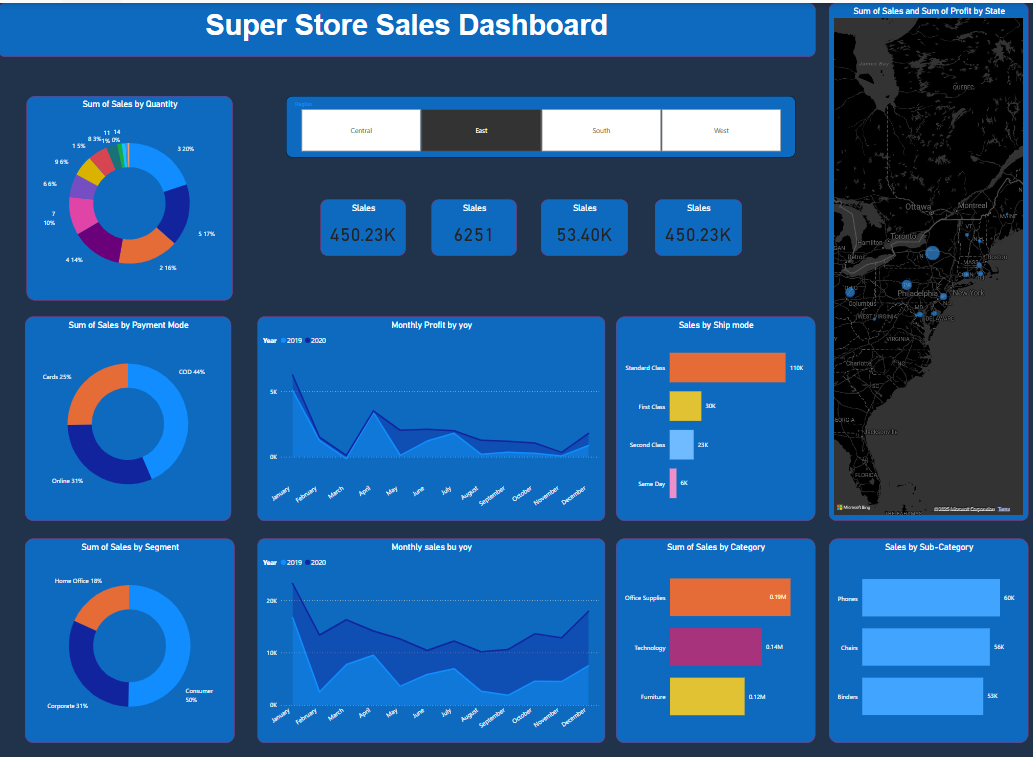

The page's visual inventory and layout, read from the dashboard file:
{"tool":"powerbi","page":{"name":"Page 1","canvas":[2025,1475],"ordinal":0},"visuals":[{"type":"clusteredBarChart","fields":{"Category":["SuperStore_Sales_Dataset (5).Category"],"Y":["Sum(SuperStore_Sales_Dataset (5).Sales)"]},"box":[1210,1046.7,390,400],"z":0},{"type":"clusteredBarChart","title":"Sales by Sub-Category","fields":{"Y":["Sum(SuperStore_Sales_Dataset (5).Sales)"],"Category":["SuperStore_Sales_Dataset (5).Sub-Category"]},"box":[1626.7,1046.7,390,400],"z":1000},{"type":"clusteredBarChart","title":"Sales by Ship mode","fields":{"Y":["Sum(SuperStore_Sales_Dataset (5).Sales)"],"Category":["SuperStore_Sales_Dataset (5).Ship Mode"]},"box":[1210,613.3,390,400],"z":2000},{"type":"stackedAreaChart","title":"Monthly sales bu yoy","fields":{"Y":["Sum(SuperStore_Sales_Dataset (5).Sales)"],"Series":["SuperStore_Sales_Dataset (5).Order Date.Variation.Date Hierarchy.Year"],"Category":["SuperStore_Sales_Dataset (5).Order Date.Variation.Date Hierarchy.Month","SuperStore_Sales_Dataset (5).Order Date.Variation.Date Hierarchy.Day"]},"box":[506.7,1046.7,680,400],"z":3000},{"type":"stackedAreaChart","title":"Monthly Profit by yoy","fields":{"Series":["SuperStore_Sales_Dataset (5).Order Date.Variation.Date Hierarchy.Year"],"Category":["SuperStore_Sales_Dataset (5).Order Date.Variation.Date Hierarchy.Month","SuperStore_Sales_Dataset (5).Order Date.Variation.Date Hierarchy.Day"],"Y":["Sum(SuperStore_Sales_Dataset (5).Profit)"]},"box":[506.7,613.3,680,400],"z":4000},{"type":"map","fields":{"Category":["SuperStore_Sales_Dataset (5).State"],"Size":["Sum(SuperStore_Sales_Dataset (5).Sales)"]},"box":[1625.7,0,390.3,1012.4],"z":5000},{"type":"donutChart","fields":{"Category":["SuperStore_Sales_Dataset (5).Segment"],"Y":["Sum(SuperStore_Sales_Dataset (5).Sales)"]},"box":[53.3,1046.7,410,400],"z":6000},{"type":"donutChart","fields":{"Category":["SuperStore_Sales_Dataset (5).Payment Mode"],"Y":["Sum(SuperStore_Sales_Dataset (5).Sales)"]},"box":[53.3,613.3,403.3,400],"z":7000},{"type":"slicer","fields":{"Values":["SuperStore_Sales_Dataset (5).Region"]},"box":[563.3,183.3,996.7,120],"z":8000},{"type":"textbox","box":[0,0,1599.3,105.6],"z":9000},{"type":"card","title":"Slales","fields":{"Values":["Sum(SuperStore_Sales_Dataset (5).Sales)"]},"box":[630,383.3,166.7,110],"z":10000},{"type":"card","title":"Slales","fields":{"Values":["Sum(SuperStore_Sales_Dataset (5).Quantity)"]},"box":[846.7,383.3,166.7,110],"z":11000},{"type":"card","title":"Slales","fields":{"Values":["Sum(SuperStore_Sales_Dataset (5).Profit)"]},"box":[1063.3,383.3,170,110],"z":12000},{"type":"card","title":"Slales","fields":{"Values":["Sum(SuperStore_Sales_Dataset (5).Sales)"]},"box":[1286.7,383.3,170,110],"z":13000},{"type":"donutChart","fields":{"Y":["Sum(SuperStore_Sales_Dataset (5).Sales)"],"Category":["SuperStore_Sales_Dataset (5).Quantity"]},"box":[56.7,183.3,403.3,400],"z":14000}]}

Visuals, with their boxes in screenshot pixels (x1, y1, x2, y2), scaled from the page's 2025x1475 canvas onto the 1033x757 screenshot:
clusteredBarChart - SuperStore_Sales_Dataset (5).Category x Sum(SuperStore_Sales_Dataset (5).Sales): rect(617, 537, 816, 742)
"Sales by Sub-Category" clusteredBarChart: rect(830, 537, 1029, 742)
"Sales by Ship mode" clusteredBarChart: rect(617, 315, 816, 520)
"Monthly sales bu yoy" stackedAreaChart: rect(258, 537, 605, 742)
"Monthly Profit by yoy" stackedAreaChart: rect(258, 315, 605, 520)
map - SuperStore_Sales_Dataset (5).State x Sum(SuperStore_Sales_Dataset (5).Sales): rect(829, 0, 1028, 520)
donutChart - SuperStore_Sales_Dataset (5).Segment x Sum(SuperStore_Sales_Dataset (5).Sales): rect(27, 537, 236, 742)
donutChart - SuperStore_Sales_Dataset (5).Payment Mode x Sum(SuperStore_Sales_Dataset (5).Sales): rect(27, 315, 233, 520)
slicer - SuperStore_Sales_Dataset (5).Region: rect(287, 94, 796, 156)
textbox: rect(0, 0, 816, 54)
"Slales" card: rect(321, 197, 406, 253)
"Slales" card: rect(432, 197, 517, 253)
"Slales" card: rect(542, 197, 629, 253)
"Slales" card: rect(656, 197, 743, 253)
donutChart - Sum(SuperStore_Sales_Dataset (5).Sales) x SuperStore_Sales_Dataset (5).Quantity: rect(29, 94, 235, 299)
